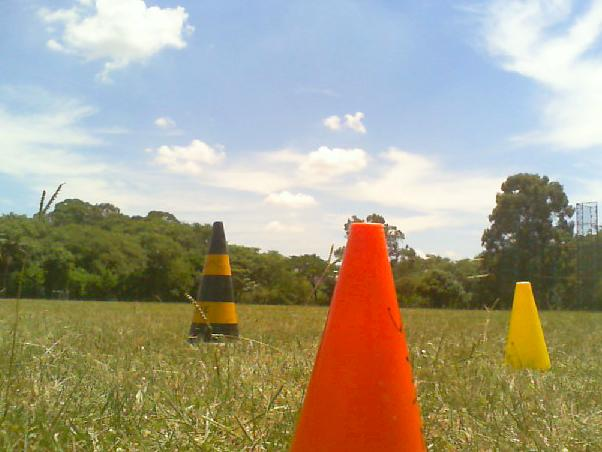0 cone: (281, 222, 432, 452), (188, 221, 242, 345), (504, 282, 552, 372)
